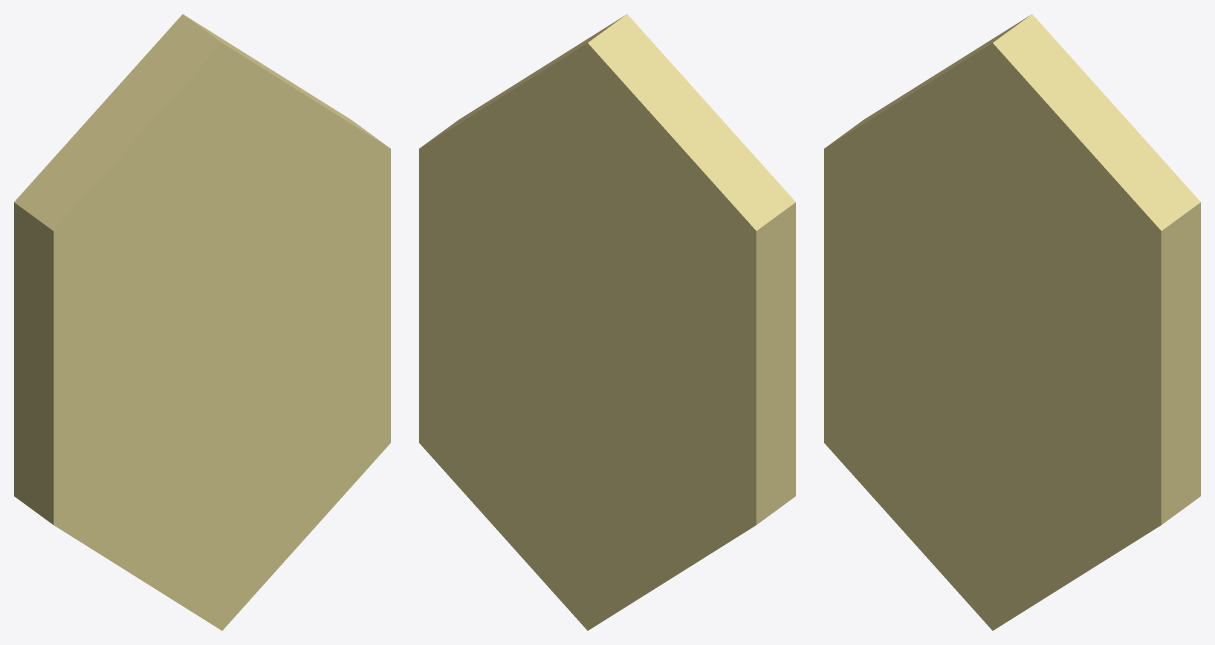
Rendered from Coin.fbx.
3 renders of one model, left to right at view 1: azimuth 30°, elevation 25°; view 2: azimuth 150°, elevation 25°; view 3: azimuth 330°, elevation 25°, orthographic.
Visible parts, largest first — view 1: Cylinder; view 2: Cylinder; view 3: Cylinder.
Boxes of the visible parts, left/top/right/bottom form: Cylinder: left=14, top=14, right=390, bottom=630; Cylinder: left=419, top=14, right=795, bottom=630; Cylinder: left=824, top=14, right=1200, bottom=630.
Bounding box in the file's own units: 105 × 174 × 21.25.
